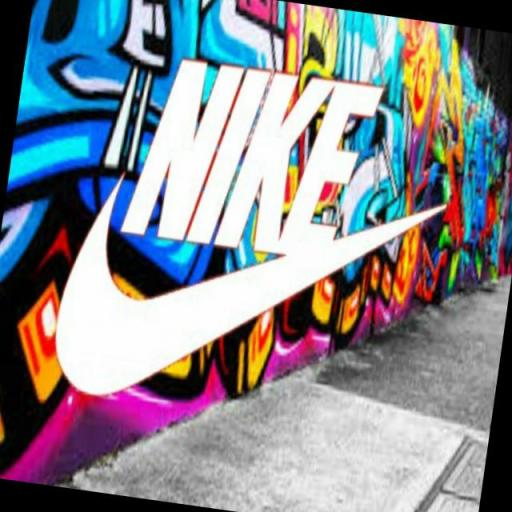Nike: (47, 206, 371, 432), (117, 46, 387, 272)
